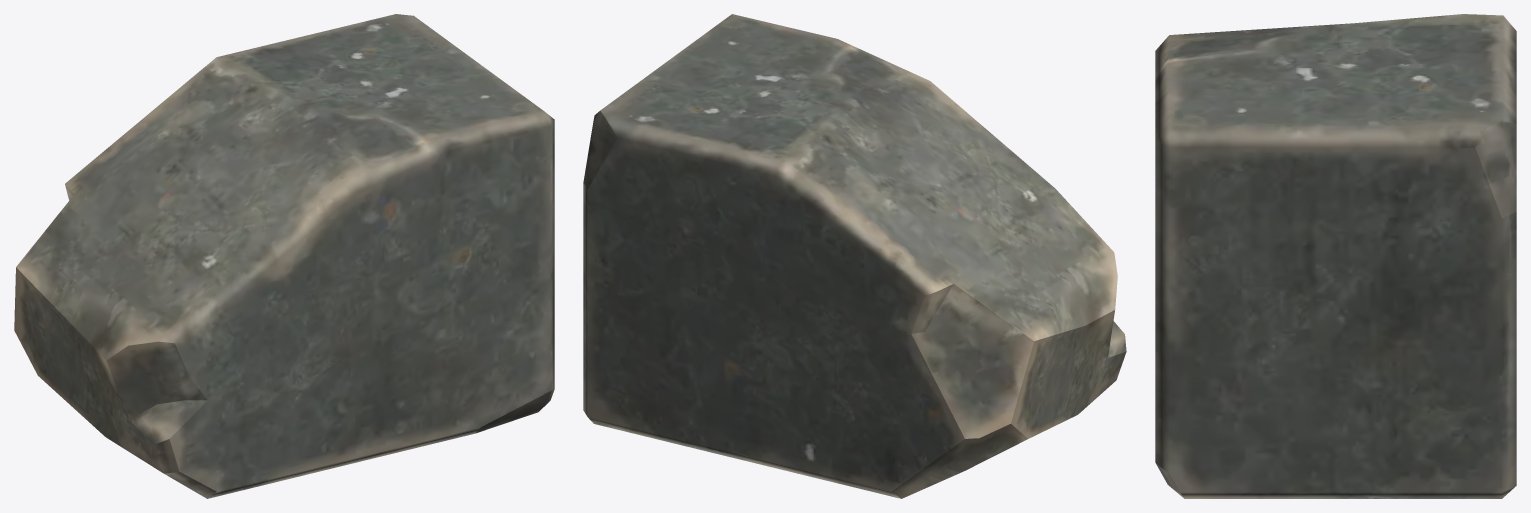
3 views of the same model, side by side, from view 1: azimuth 30°, elevation 25°; view 2: azimuth 150°, elevation 25°; view 3: azimuth 270°, elevation 25° (orthographic). The views are drawn at different scales.
Parts seen in each view (by area): view 1: SM_SaradominTemple_BrickCluster_03_LOD0; view 2: SM_SaradominTemple_BrickCluster_03_LOD0; view 3: SM_SaradominTemple_BrickCluster_03_LOD0.
Boxes of the visible parts, left/top/right/bottom form: SM_SaradominTemple_BrickCluster_03_LOD0: left=14, top=14, right=554, bottom=498; SM_SaradominTemple_BrickCluster_03_LOD0: left=583, top=14, right=1126, bottom=498; SM_SaradominTemple_BrickCluster_03_LOD0: left=1155, top=14, right=1516, bottom=498.
Size of the model in its own units: 0.9012 by 0.6204 by 0.5476.
